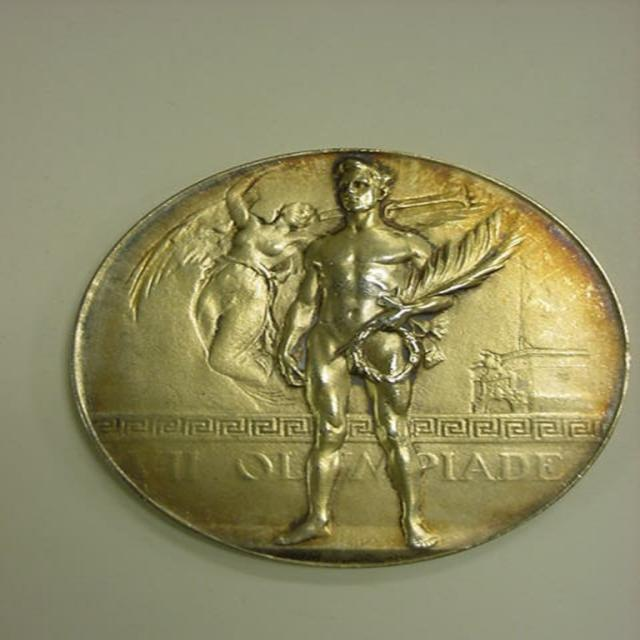Coin: (64, 144, 633, 570)
